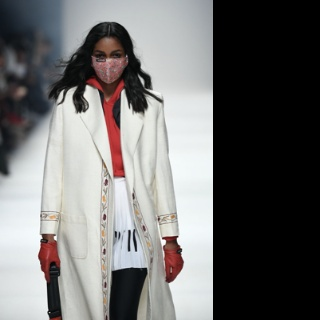with_mask: (90, 46, 129, 83)
